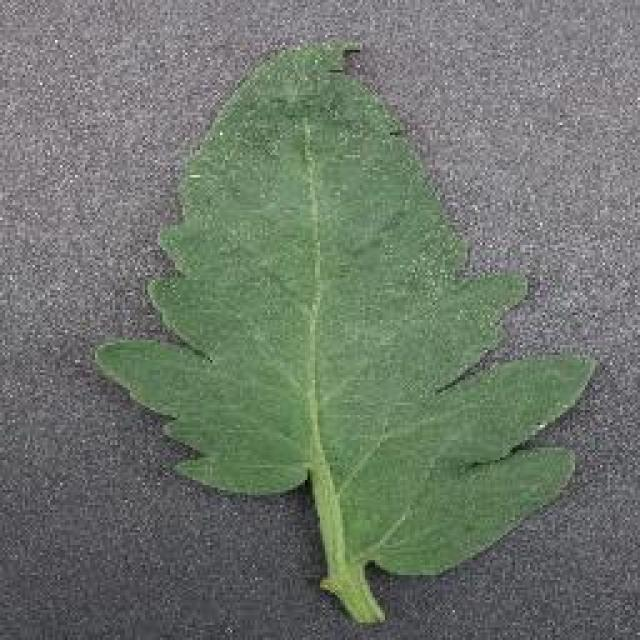Tomato healthy leaf: (101, 49, 591, 604)
